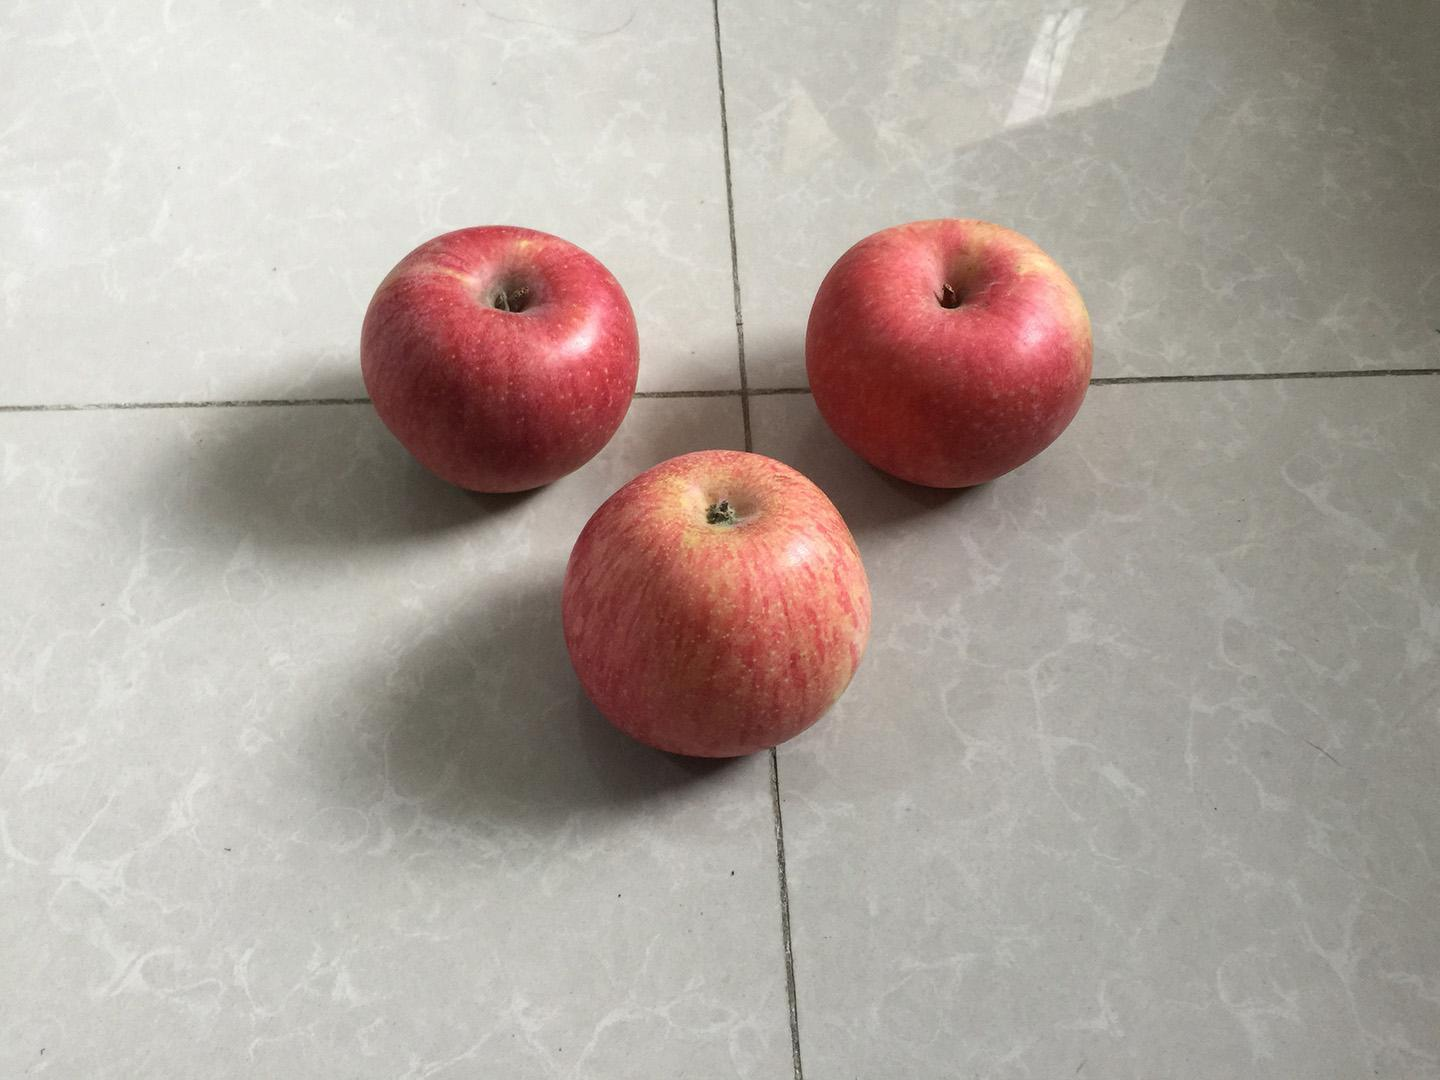apple: (549, 441, 882, 766), (795, 206, 1109, 495), (349, 216, 645, 503)
